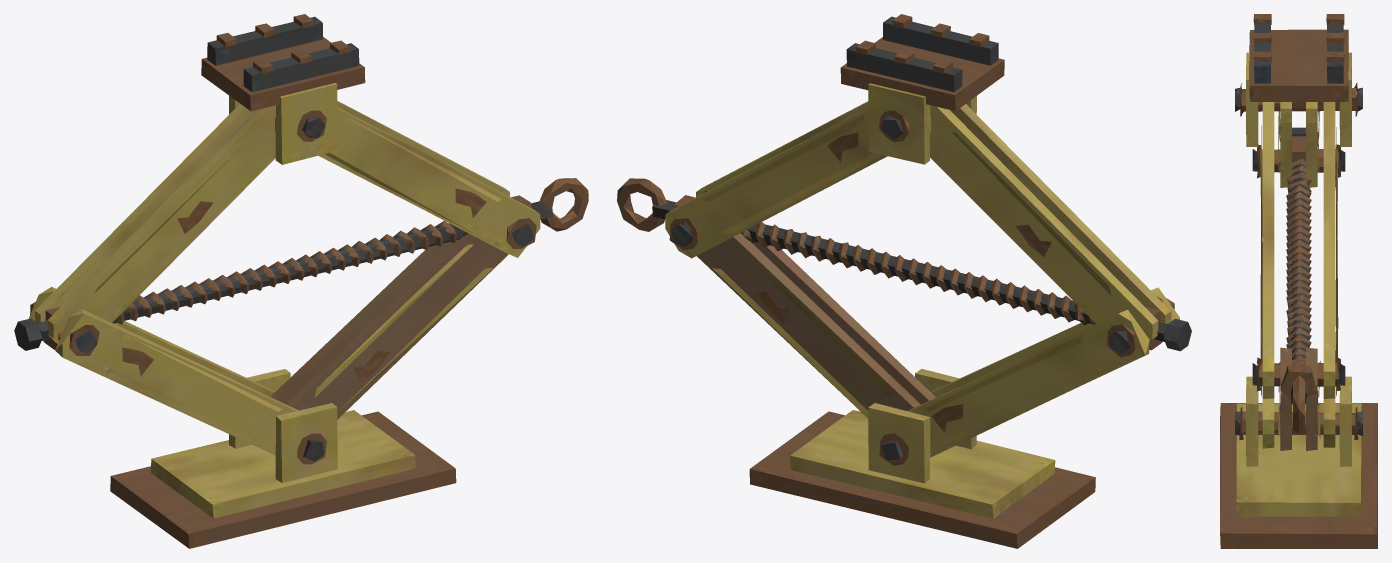
File: JV26_car_jack.glb
The picture shows the model from 3 angles, left to right: view 1: azimuth 30°, elevation 25°; view 2: azimuth 150°, elevation 25°; view 3: azimuth 270°, elevation 25°; orthographic projection.
Parts seen in each view (by area): view 1: Pressed base shoe; view 2: Pressed base shoe; view 3: Pressed base shoe.
Boxes of the visible parts, <box> form: Pressed base shoe: <box>14,14,588,548</box>; Pressed base shoe: <box>617,14,1191,548</box>; Pressed base shoe: <box>1220,14,1377,548</box>.
Size of the model in its own units: 0.6 by 0.4521 by 0.1443.
Materials: 4 (4 with a texture image).
